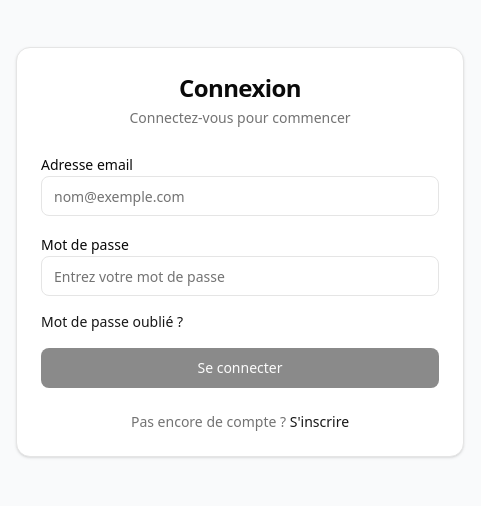
Test: Login Component › devrait gérer les erreurs sans message
The width and height of the screenshot is (481, 506).
Note: Remplir le formulaire
Type "test@exemple.com" into the field labelled "Adresse email". click: (240, 196)
box: [41,176,439,216]
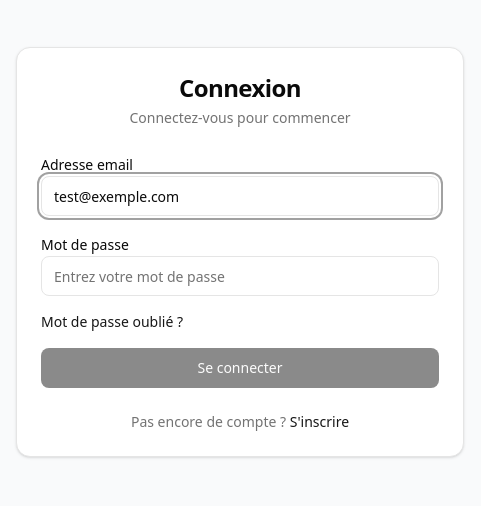
Type "Password123!" into the password field labelled "Mot de passe". click: (240, 276)
box: [41,256,439,296]
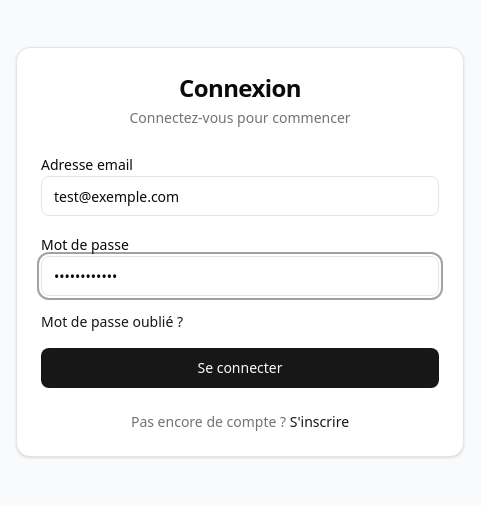
Note: Soumettre le formulaire
Click the button "Se connecter". click: (240, 368)
box: [41,348,439,388]
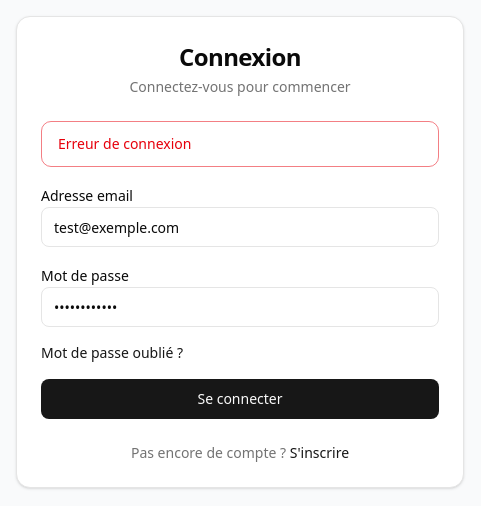
Expected: the text "Erreur de connexion" is shown, [58,134,191,153]
